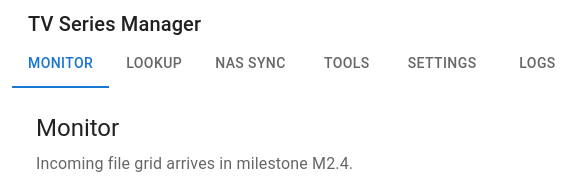
Scenario: App › tab navigation › clicking the Lookup tab renders the Lookup page
The image size is (572, 189).
Click the tab "Lookup".
click(154, 64)  # box [109,40,199,88]
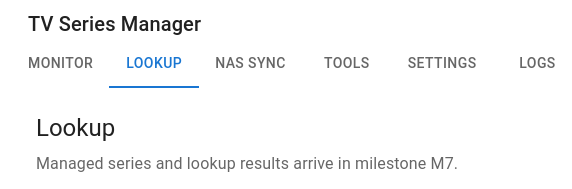
Check: the heading "Lookup" is shown, box [36,114,115,142]
